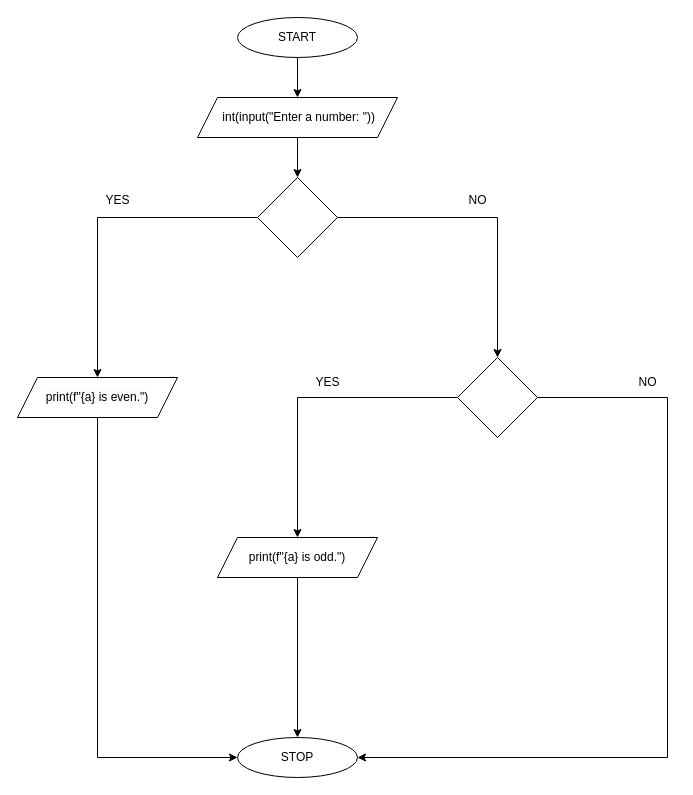
The diagram is 693 pixels wide and 795 high, and some of its shapes have lost their labels. The shapes that lost their labels are listed below. From the top down, each one's centre as x and y in pixels, then its label:
At (x=297, y=217): "if a % 2 == 0:".
At (x=497, y=397): "else:".
